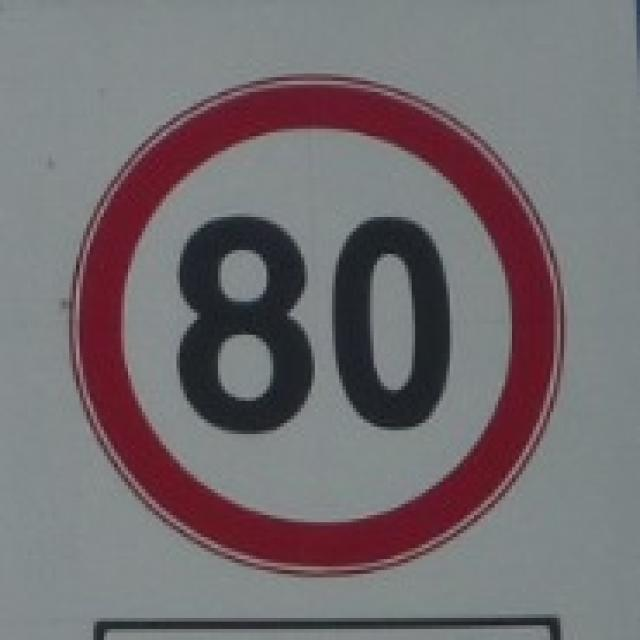Speed Limit -80-: (171, 214, 455, 442)
